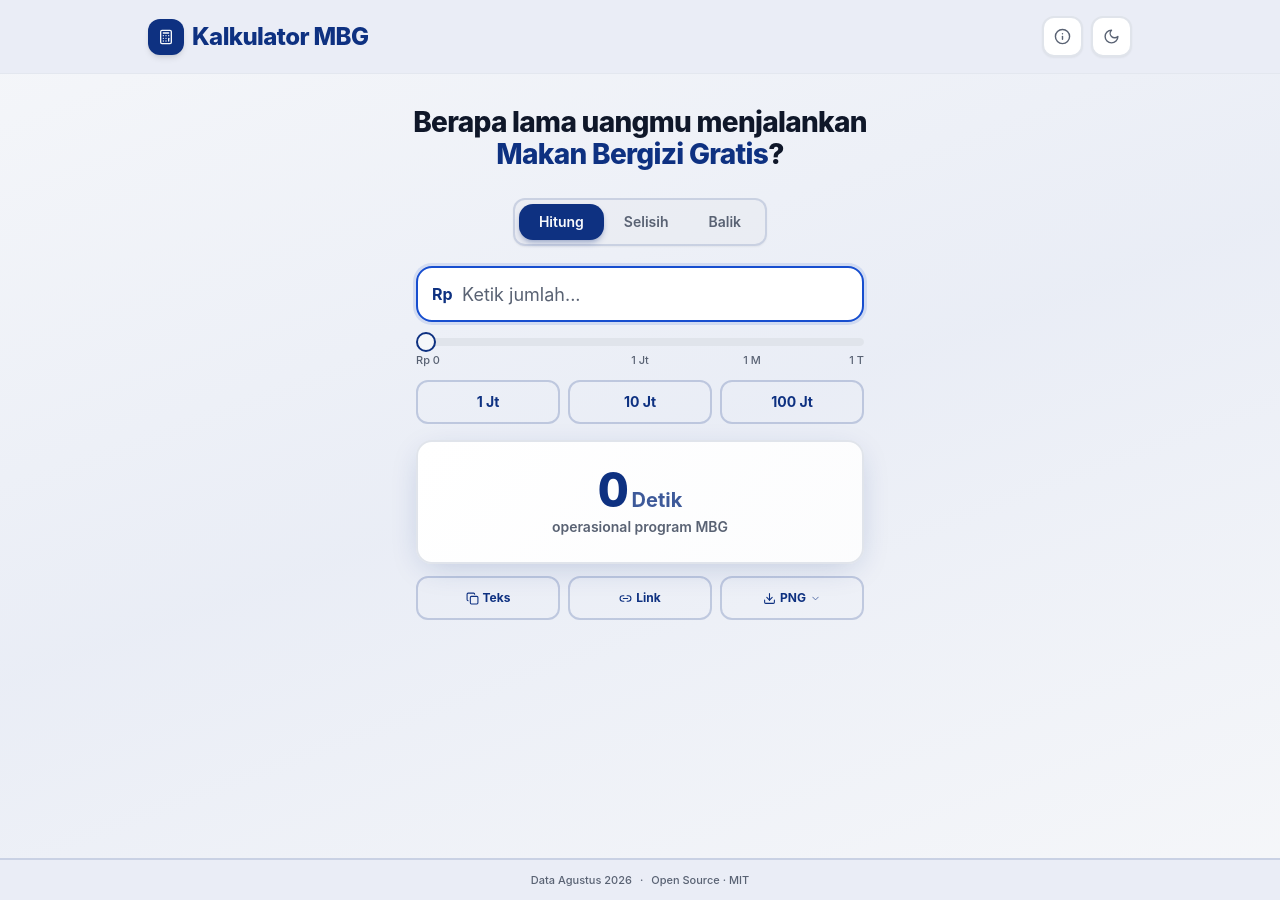
Test: Index (smoke) › menampilkan satuan waktu + porsi setelah memasukkan nominal
The width and height of the screenshot is (1280, 900).
Type "1000000000" into the field named "Jumlah Rupiah" at {"x": 640, "y": 294}, box x1=416 y1=266 x2=864 y2=322
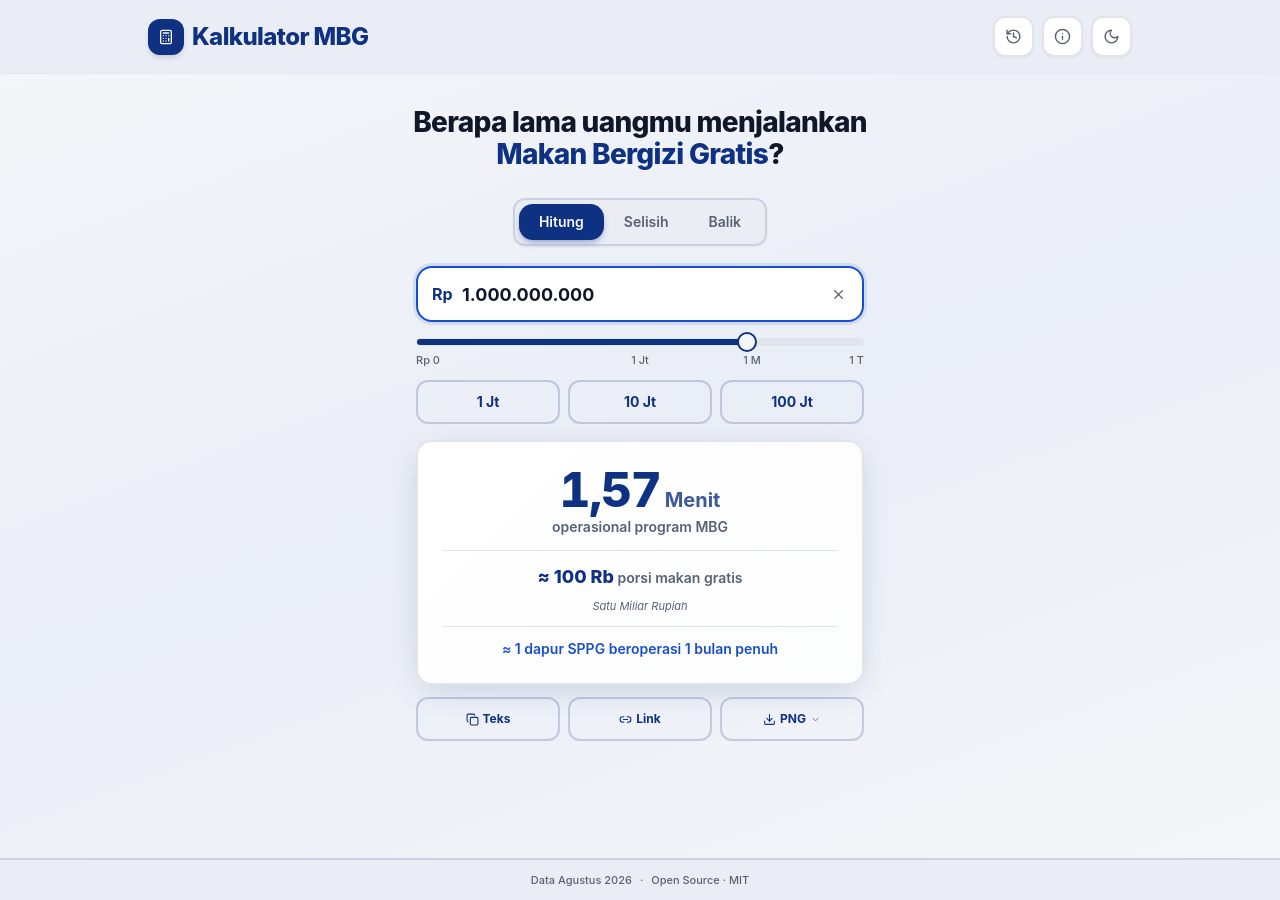
Expected: the field named "Jumlah Rupiah" holds "1.000.000.000", x1=416 y1=266 x2=864 y2=322
Expected: the text "≈ 100 Rb" is shown, x1=538 y1=566 x2=614 y2=587
